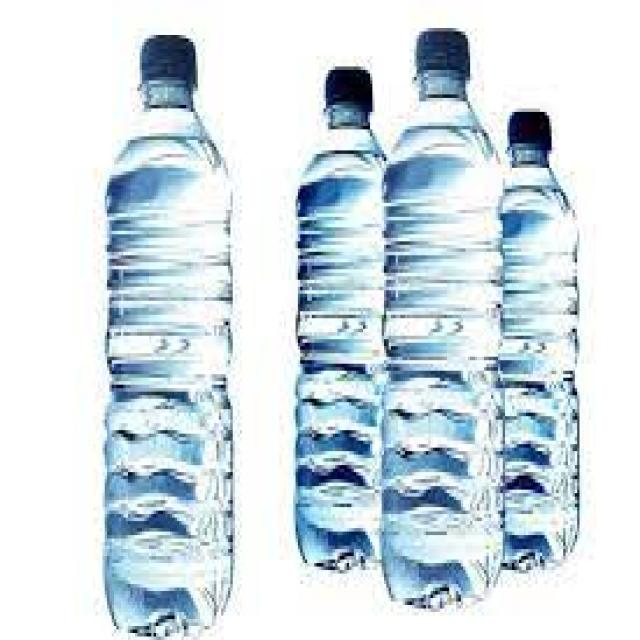bottle: (102, 32, 236, 640), (386, 25, 503, 616), (293, 63, 388, 577), (493, 107, 590, 571)
